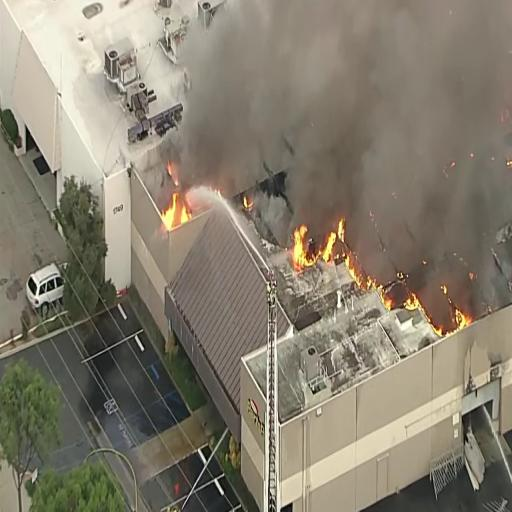fire: (294, 218, 342, 270), (160, 174, 190, 225)
smoke: (294, 20, 446, 197)
